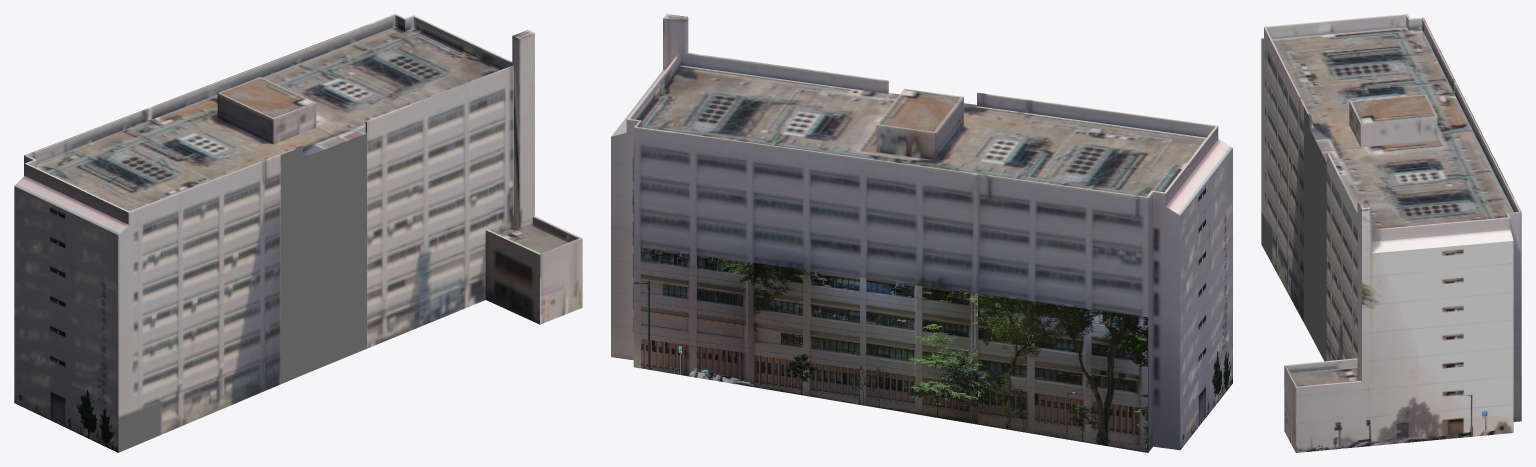
The model's file is input.glb.
3 renders of one model, left to right at view 1: azimuth 30°, elevation 25°; view 2: azimuth 150°, elevation 25°; view 3: azimuth 270°, elevation 25°, orthographic. The views are drawn at different scales.
Parts seen in each view (by area): view 1: B416111881201063A0; view 2: B416111881201063A0; view 3: B416111881201063A0.
Boxes of the visible parts, bbox=[...] form: B416111881201063A0: bbox=[14, 14, 582, 452]; B416111881201063A0: bbox=[611, 14, 1232, 452]; B416111881201063A0: bbox=[1261, 14, 1521, 452].
Bounding box in the file's own units: 64.48 × 32.11 × 30.25.
4 materials, 4 textured.
